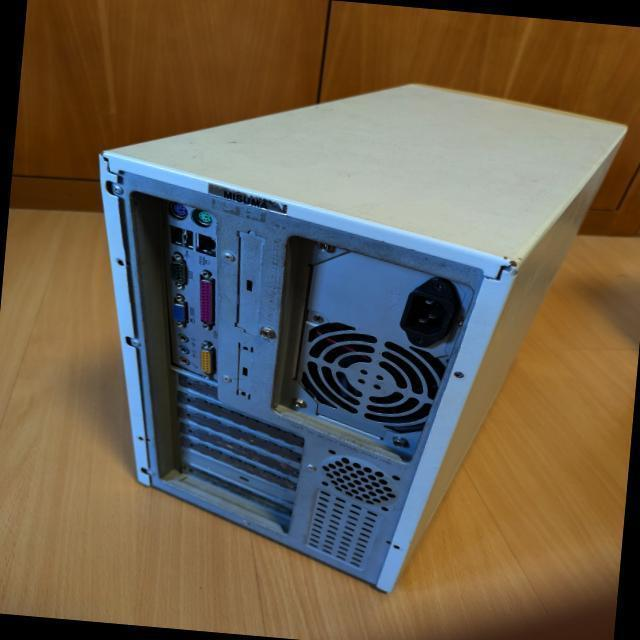PSU: (270, 233, 476, 464)
